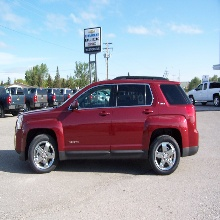no damage: (14, 78, 200, 176)
